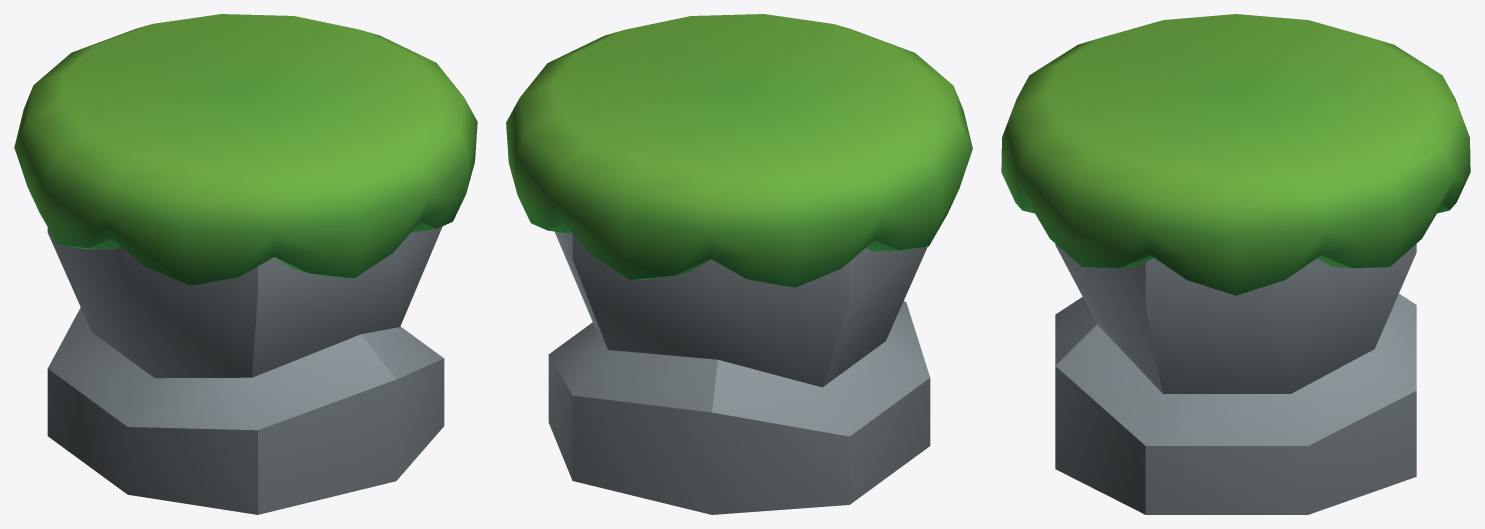
File: Hill_2x2x2_Color1.gltf
3 renders of one model, left to right at view 1: azimuth 30°, elevation 25°; view 2: azimuth 150°, elevation 25°; view 3: azimuth 270°, elevation 25°, orthographic.
Visible parts, largest first — view 1: Hill_2x2x2_Color1; view 2: Hill_2x2x2_Color1; view 3: Hill_2x2x2_Color1.
Part boxes in pixels (x1,y1,x2,y2): Hill_2x2x2_Color1: (14, 14, 477, 514); Hill_2x2x2_Color1: (506, 14, 972, 514); Hill_2x2x2_Color1: (1001, 14, 1470, 514).
Size of the model in its own units: 2.47 by 2 by 2.47.
1 material, 1 textured.
